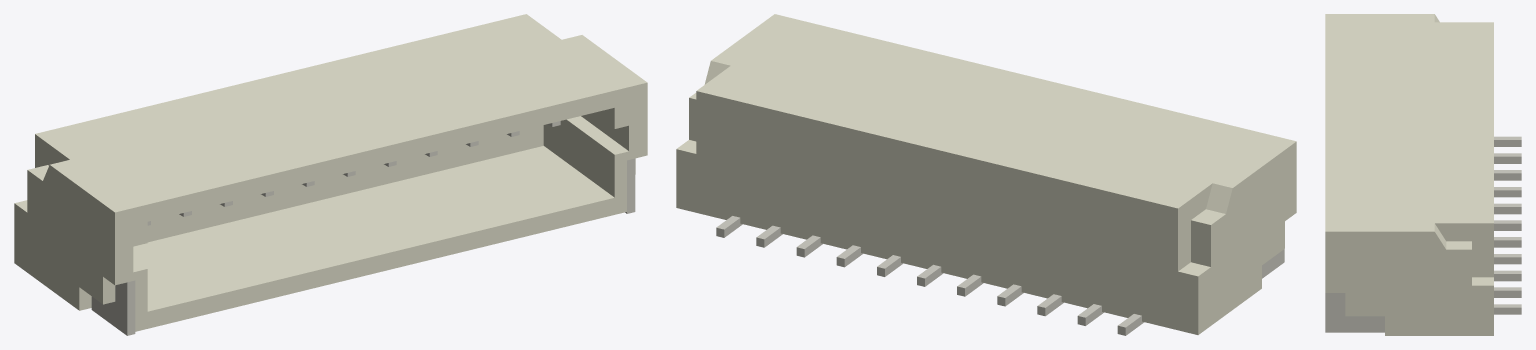
File: kc-jst_sh_sm11b-srss-tb_1x11-1mp_p1.00mm_horizontal.glb
3 views of the same model, side by side, from view 1: azimuth 30°, elevation 25°; view 2: azimuth 150°, elevation 25°; view 3: azimuth 270°, elevation 25° (orthographic). The views are drawn at different scales.
Parts seen in each view (by area): view 1: 0.75_0.75_0.6666666666666666_0, 0.6666666666666666_0.6666666666666666_0.5833333333333334_0.8; view 2: 0.75_0.75_0.6666666666666666_0, 0.6666666666666666_0.6666666666666666_0.5833333333333334_0.8; view 3: 0.75_0.75_0.6666666666666666_0, 0.6666666666666666_0.6666666666666666_0.5833333333333334_0.8.
Part boxes in pixels (x1,y1,x2,y2): 0.75_0.75_0.6666666666666666_0: [14, 14, 647, 331]; 0.6666666666666666_0.6666666666666666_0.5833333333333334_0.8: [91, 121, 635, 335]; 0.75_0.75_0.6666666666666666_0: [676, 14, 1296, 334]; 0.6666666666666666_0.6666666666666666_0.5833333333333334_0.8: [716, 216, 1284, 335]; 0.75_0.75_0.6666666666666666_0: [1325, 14, 1493, 335]; 0.6666666666666666_0.6666666666666666_0.5833333333333334_0.8: [1325, 136, 1521, 332].
Size of the model in its own units: 1.3 by 0.296 by 0.495.
